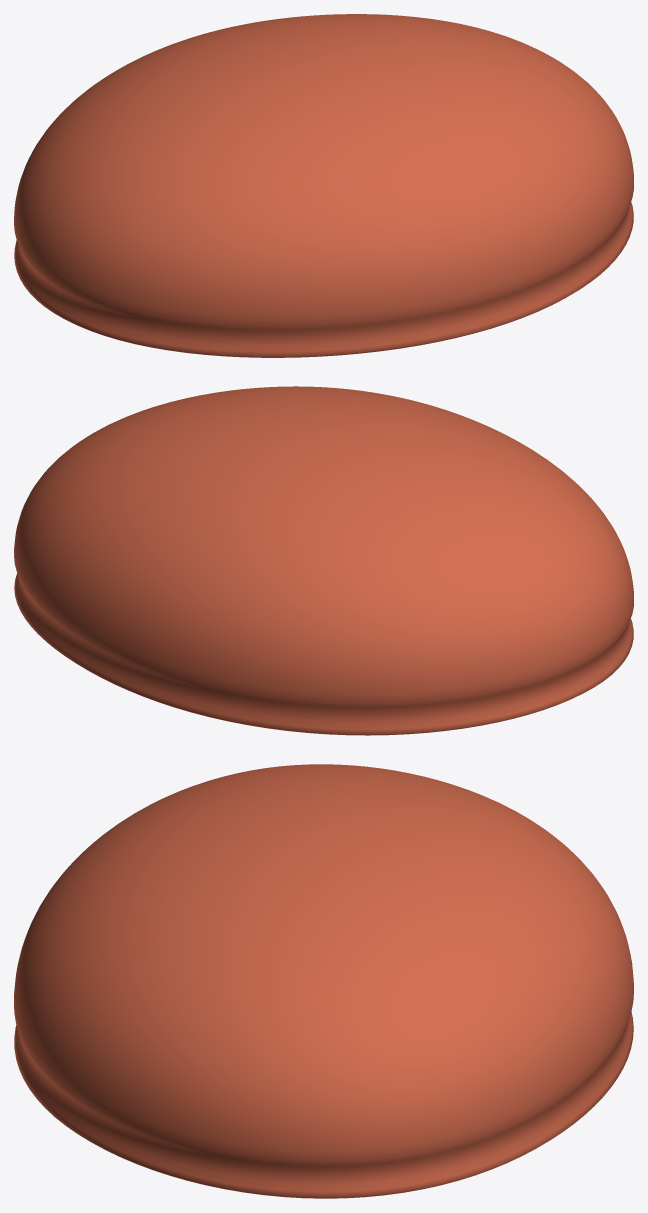
Rendered from lapis-lazuli.glb.
3 views of the same model, one above another, from view 1: azimuth 30°, elevation 25°; view 2: azimuth 150°, elevation 25°; view 3: azimuth 270°, elevation 25° (orthographic). The views are drawn at different scales.
Visible parts, largest first — view 1: stone; view 2: stone; view 3: stone.
Boxes of the visible parts, x1=… form: stone: x1=14, y1=14, x2=633, y2=357; stone: x1=14, y1=386, x2=633, y2=735; stone: x1=14, y1=764, x2=633, y2=1198.
Bounding box in the file's own units: 1.21 × 0.42 × 1.
